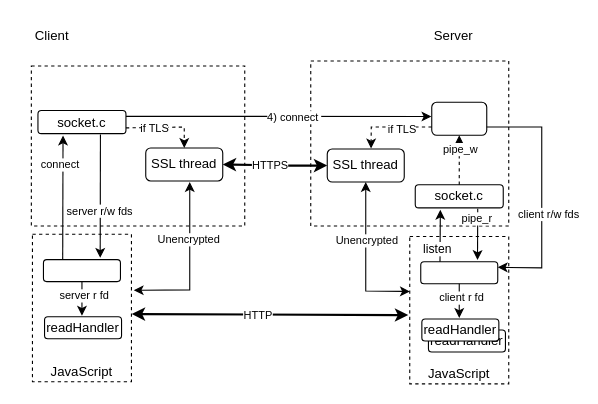
Image size: 598x404. Some labels were removed from this diagram. Each missing label, with the box of its shape:
accept thread: (431, 101, 487, 135)
client.js: (42, 258, 120, 282)
server.js: (420, 261, 498, 284)
socket.so - Client: (30, 65, 245, 226)
socket.so - Server: (310, 60, 509, 226)
